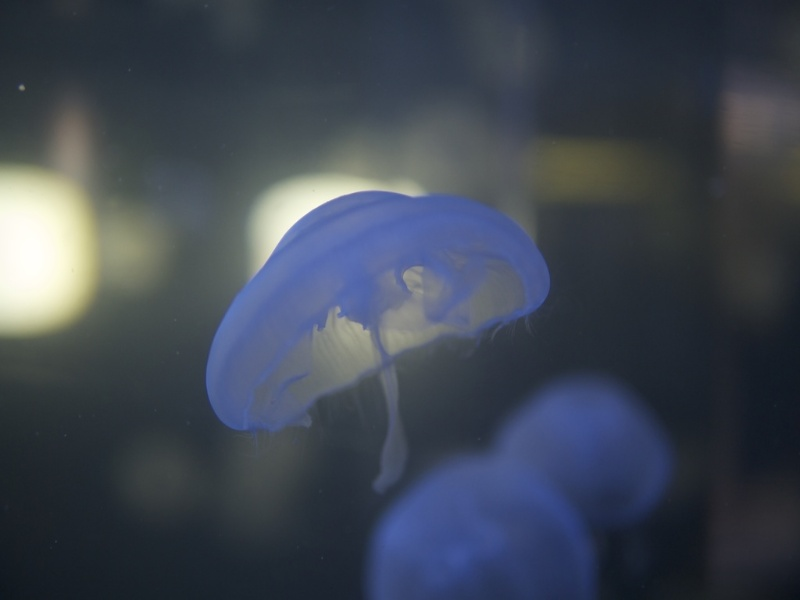Jellyfish: (202, 189, 552, 492), (366, 456, 598, 599), (488, 371, 670, 525)
